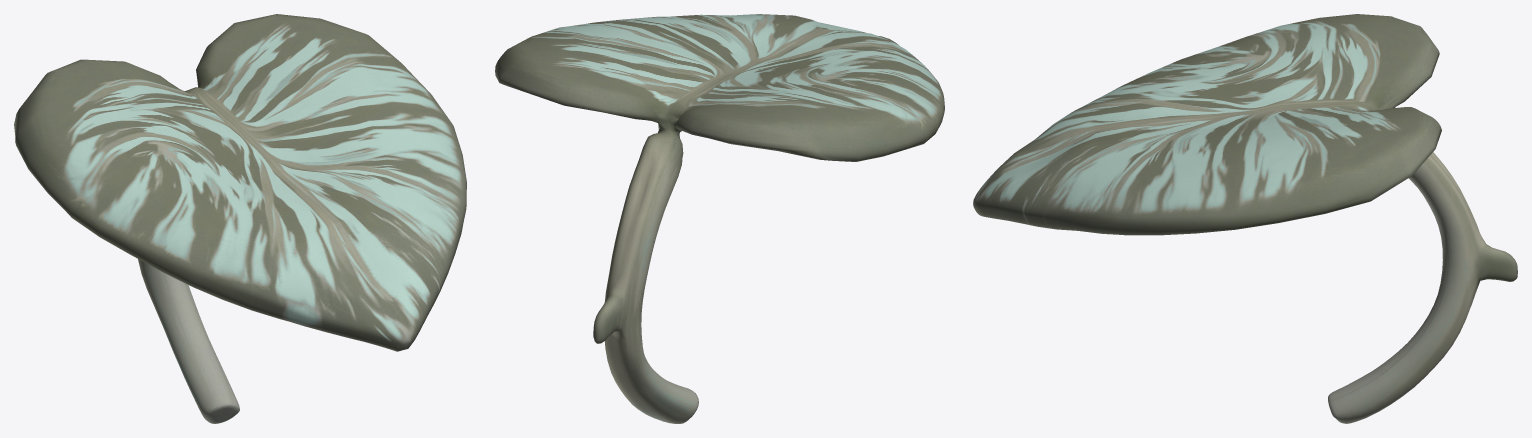
Rendered from pothos_marble_whitegreen_v2.glb.
3 views of the same model, side by side, from view 1: azimuth 30°, elevation 25°; view 2: azimuth 150°, elevation 25°; view 3: azimuth 270°, elevation 25° (orthographic). The views are drawn at different scales.
Parts seen in each view (by area): view 1: world; view 2: world; view 3: world.
Boxes of the visible parts, left/top/right/bottom form: world: left=14, top=14, right=466, bottom=423; world: left=495, top=14, right=944, bottom=423; world: left=973, top=14, right=1517, bottom=423.
Bounding box in the file's own units: 1.54 × 1.37 × 2.
1 material, 1 textured.
